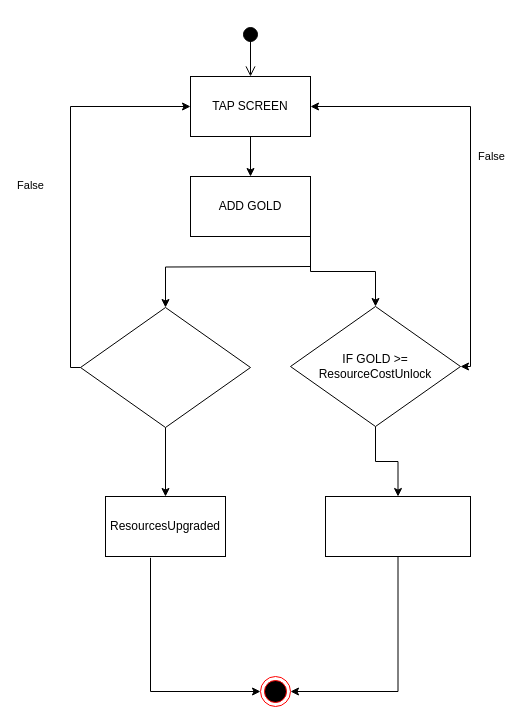
This 522x724 diagram has some shape labels left out. Each missing label, with the centre of its shape:
"IF GOLD >= ResourceCostUpgrade" belongs at point (165, 367).
"UnlockResourcesButton" belongs at point (397, 526).
